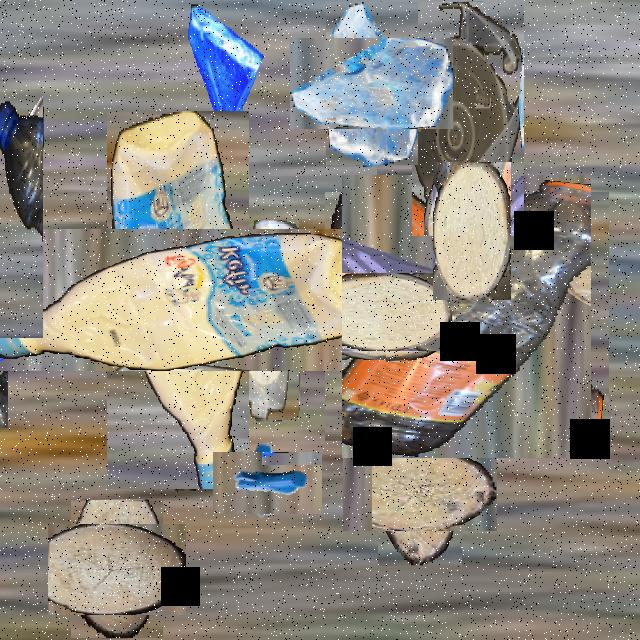glass: (308, 20, 436, 147), (360, 175, 478, 291), (182, 2, 264, 148)
metal: (224, 441, 310, 526), (0, 516, 5, 622)
plastic: (334, 183, 600, 450), (48, 171, 308, 430), (412, 2, 524, 236), (239, 220, 299, 420), (0, 89, 43, 338), (0, 236, 69, 367)
wood: (360, 430, 480, 548), (59, 511, 174, 627), (433, 162, 511, 300), (0, 101, 30, 143)
